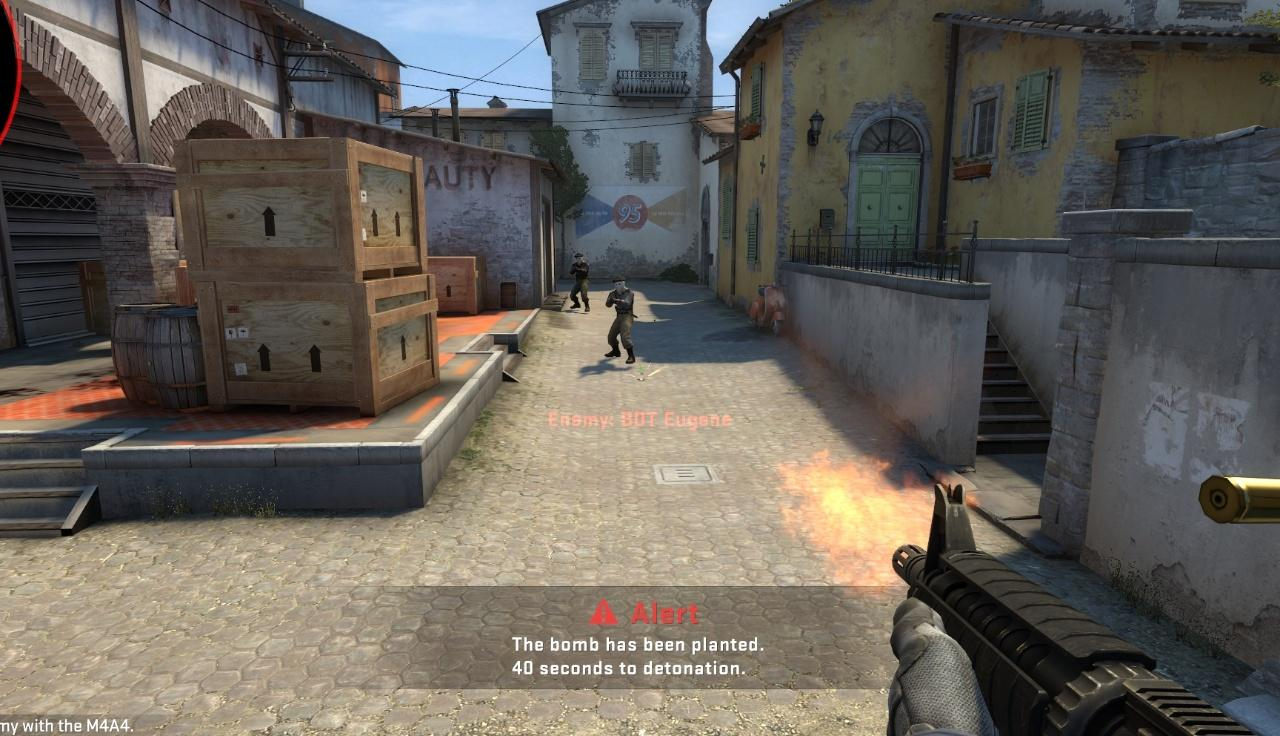rifle: (888, 480, 1280, 736)
tt: (606, 276, 635, 364), (570, 253, 589, 309)
tthead: (613, 278, 626, 293), (574, 253, 585, 264)
